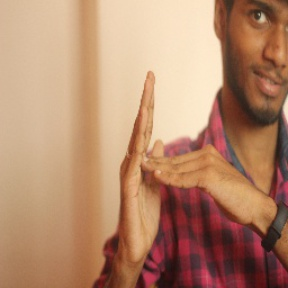Z: (117, 67, 251, 266)
